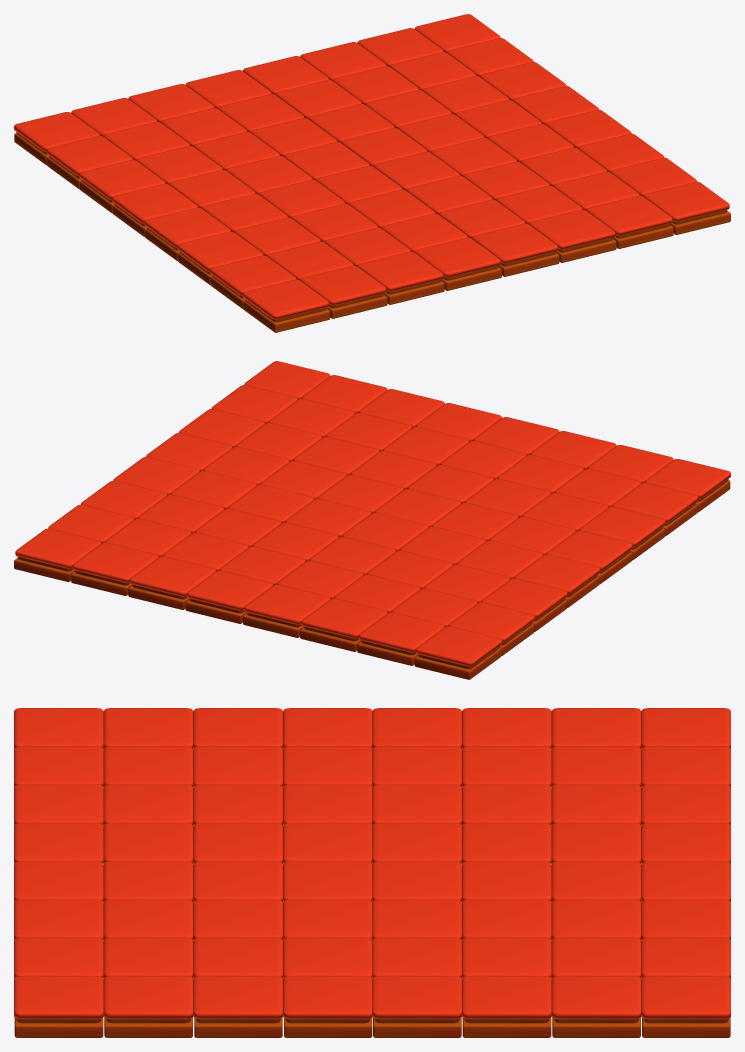
The model's file is floorpad_red_large.glb.
The picture shows the model from 3 angles, top to bottom: view 1: azimuth 30°, elevation 25°; view 2: azimuth 150°, elevation 25°; view 3: azimuth 270°, elevation 25°; orthographic projection. The views are drawn at different scales.
Parts seen in each view (by area): view 1: Floorpad Red Large; view 2: Floorpad Red Large; view 3: Floorpad Red Large.
Part boxes in pixels (bbox=[...]): Floorpad Red Large: bbox=[14, 14, 730, 332]; Floorpad Red Large: bbox=[14, 361, 730, 679]; Floorpad Red Large: bbox=[14, 708, 730, 1037].
Size of the model in its own units: 8.93 by 0.3474 by 8.84.
1 material, 1 textured.
